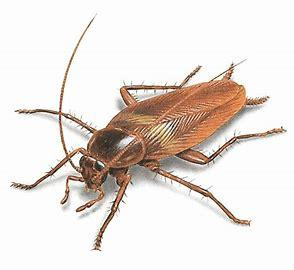cockroach: (13, 21, 284, 253)
